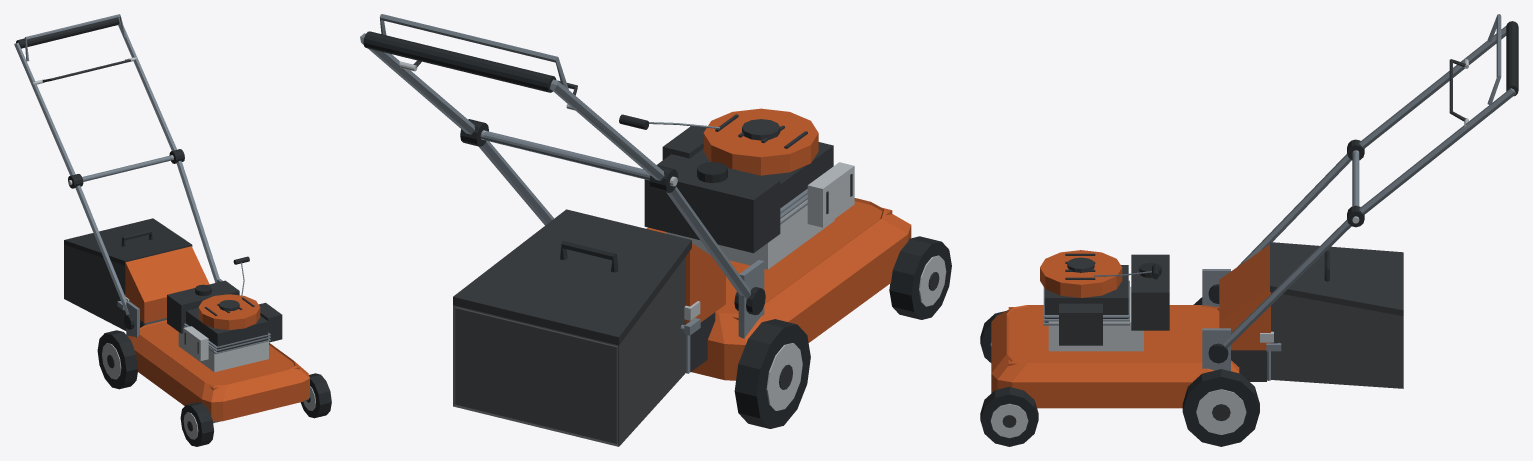
3 views of the same model, side by side, from view 1: azimuth 30°, elevation 25°; view 2: azimuth 150°, elevation 25°; view 3: azimuth 270°, elevation 25° (orthographic). The views are drawn at different scales.
Parts seen in each view (by area): view 1: Deck_hollow_inverted_bowl, Rear_discharge_upper_hood, Collector_fabric_open_neck, Collector_lid, Deck_roof, Recoil_cover, Upper_walking_handle_U, Cylinder_block, Tire_rear-1, Fuel_tank, Engine_crankcase, Tire_front-1 (+10 smaller); view 2: Collector_lid, Collector_rear_fabric, Deck_hollow_inverted_bowl, Collector_fabric_open_neck, Fuel_tank, Recoil_cover, Tire_rear-1, Deck_roof, Walking_grip, Upper_walking_handle_U, Tire_front-1, Engine_crankcase (+15 smaller); view 3: Collector_fabric_open_neck, Deck_hollow_inverted_bowl, Collector_lid, Deck_roof, Rear_discharge_upper_hood, Upper_walking_handle_U, Tire_rear1, Recoil_cover, Fuel_tank, Air_filter, Engine_crankcase, Tire_front1 (+10 smaller).
Boxes of the visible parts, bbox=[...] form: Deck_hollow_inverted_bowl: bbox=[127, 320, 309, 421]; Rear_discharge_upper_hood: bbox=[125, 246, 209, 323]; Collector_fabric_open_neck: bbox=[64, 244, 166, 330]; Collector_lid: bbox=[64, 218, 192, 265]; Deck_roof: bbox=[140, 321, 299, 390]; Recoil_cover: bbox=[198, 294, 260, 329]; Upper_walking_handle_U: bbox=[14, 18, 177, 175]; Cylinder_block: bbox=[186, 308, 268, 352]; Tire_rear-1: bbox=[97, 330, 137, 389]; Fuel_tank: bbox=[167, 280, 239, 333]; Engine_crankcase: bbox=[178, 328, 268, 372]; Tire_front-1: bbox=[180, 402, 213, 446]; Collector_lid: bbox=[453, 209, 691, 345]; Collector_rear_fabric: bbox=[455, 307, 617, 443]; Deck_hollow_inverted_bowl: bbox=[646, 198, 911, 380]; Collector_fabric_open_neck: bbox=[453, 256, 685, 446]; Fuel_tank: bbox=[644, 154, 780, 253]; Recoil_cover: bbox=[703, 108, 818, 175]; Tire_rear-1: bbox=[734, 319, 810, 428]; Deck_roof: bbox=[650, 201, 892, 320]; Walking_grip: bbox=[363, 31, 556, 92]; Upper_walking_handle_U: bbox=[360, 33, 664, 180]; Tire_front-1: bbox=[889, 236, 951, 319]; Engine_crankcase: bbox=[666, 200, 834, 269]; Collector_fabric_open_neck: bbox=[1271, 292, 1403, 388]; Deck_hollow_inverted_bowl: bbox=[991, 305, 1239, 408]; Collector_lid: bbox=[1270, 242, 1403, 315]; Deck_roof: bbox=[1008, 307, 1219, 365]; Rear_discharge_upper_hood: bbox=[1219, 244, 1270, 350]; Upper_walking_handle_U: bbox=[1359, 25, 1515, 214]; Tire_rear1: bbox=[1182, 369, 1259, 446]; Recoil_cover: bbox=[1040, 250, 1122, 297]; Fuel_tank: bbox=[1131, 254, 1169, 330]; Air_filter: bbox=[1059, 303, 1102, 345]; Engine_crankcase: bbox=[1048, 286, 1143, 351]; Tire_front1: bbox=[980, 386, 1038, 446].
Size of the model in its own units: 0.535 by 1.04 by 1.41.
